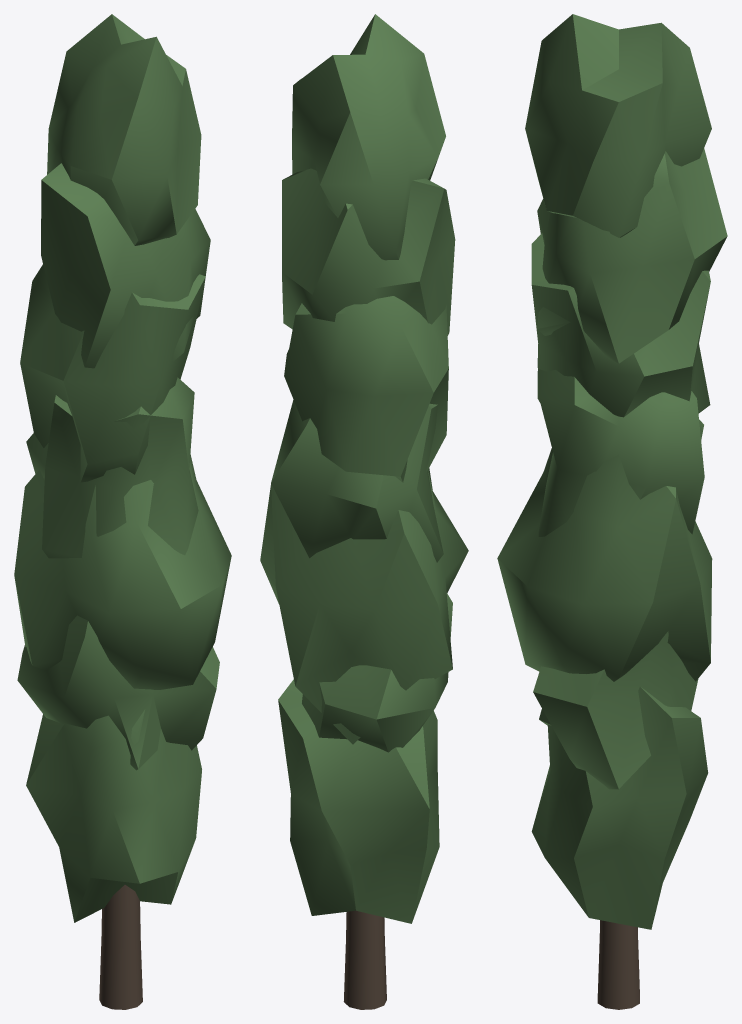
The model's file is tree_poplar.glb.
3 views of the same model, side by side, from view 1: azimuth 30°, elevation 25°; view 2: azimuth 150°, elevation 25°; view 3: azimuth 270°, elevation 25° (orthographic). The views are drawn at different scales.
Visible parts, largest first — view 1: tree_mesh; view 2: tree_mesh; view 3: tree_mesh.
Boxes of the visible parts, <box> form: tree_mesh: <box>14,14,231,1009</box>; tree_mesh: <box>260,14,468,1009</box>; tree_mesh: <box>497,14,727,1009</box>.
Size of what is drawn, in the model's own units: 1.54 by 7.86 by 1.65.
